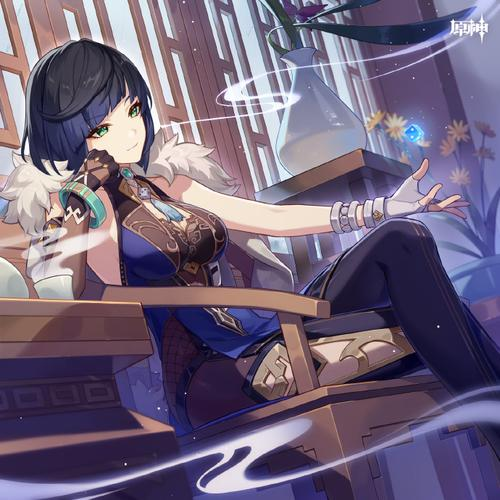夜兰: (13, 42, 500, 467)
